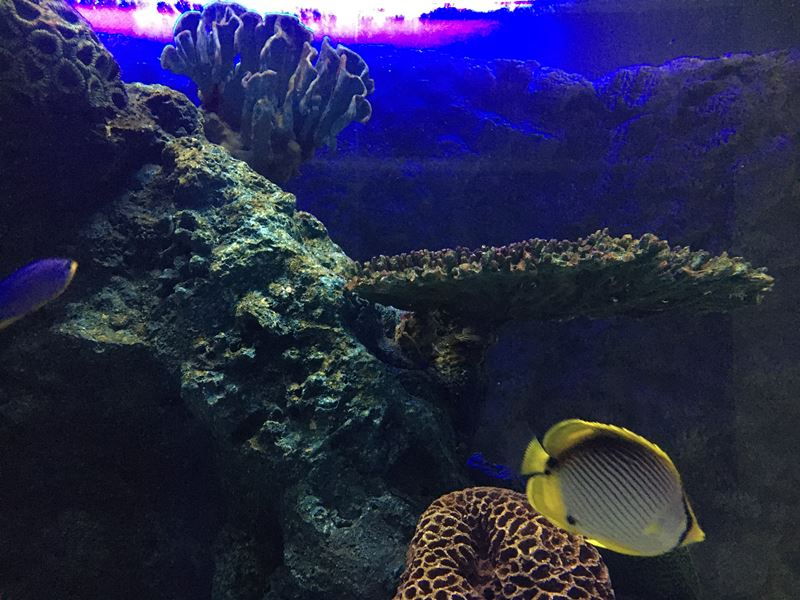Black-backed butterflyfish: (497, 406, 716, 566)
